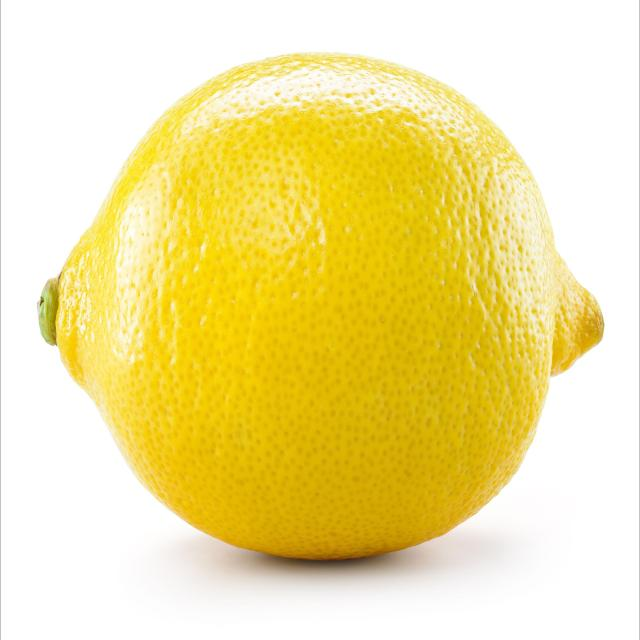lemon: (30, 44, 608, 567)
